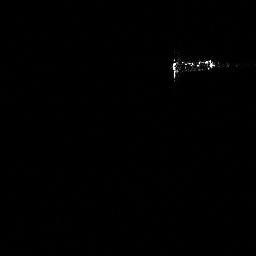ship: (168, 54, 222, 84)
